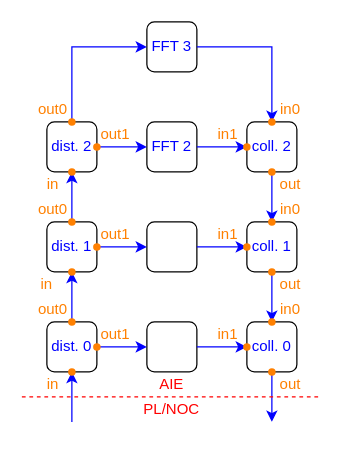
This 345x454 diagram has some shape labels left out. The shapes that lost their labels are listed below. From the top down, each one's centre as x and y in pixels, then its label:
(171,246): FFT 1
(171,346): FFT 0
